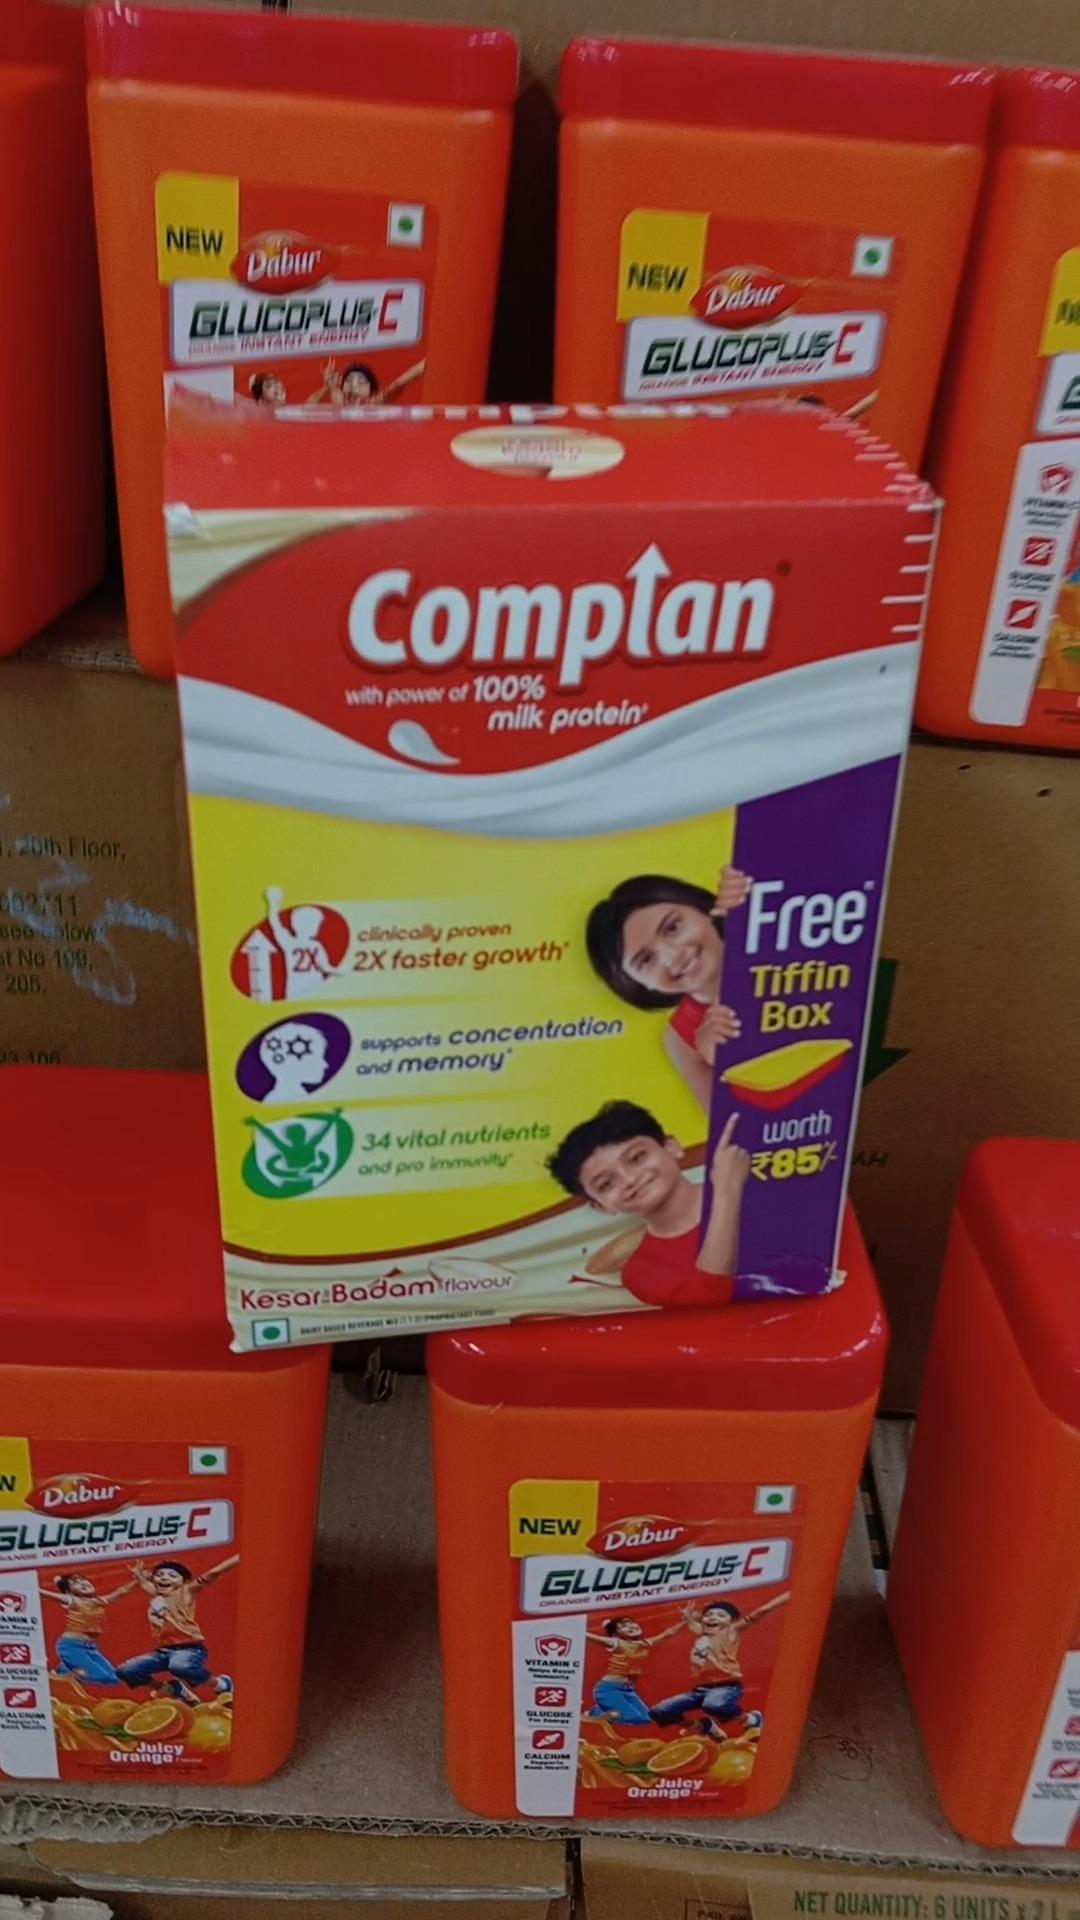COMPLAN_KESAR_BADAM_500_GMS_PACK: (186, 509, 928, 1364)
